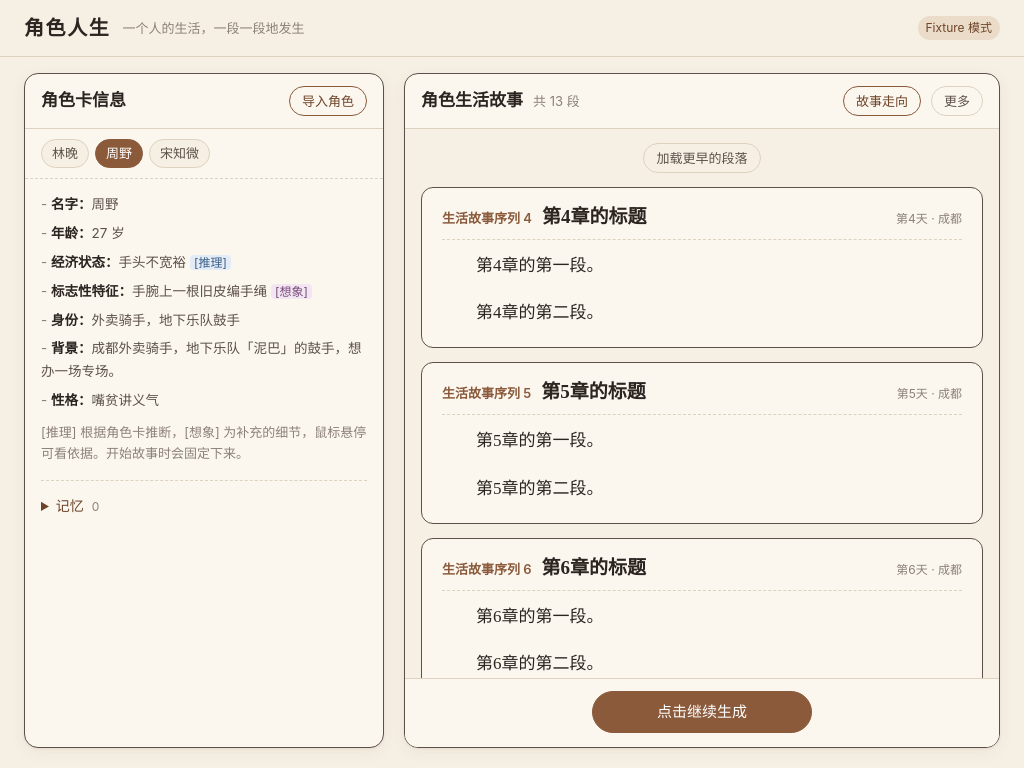
Test: Navigating long stories › loads earlier segments on demand
This screenshot has width=1024, height=768.
Expected: the heading "第3章的标题" is not shown
Click the button "加载更早的段落" at [702, 158], box [644,143,760,173]
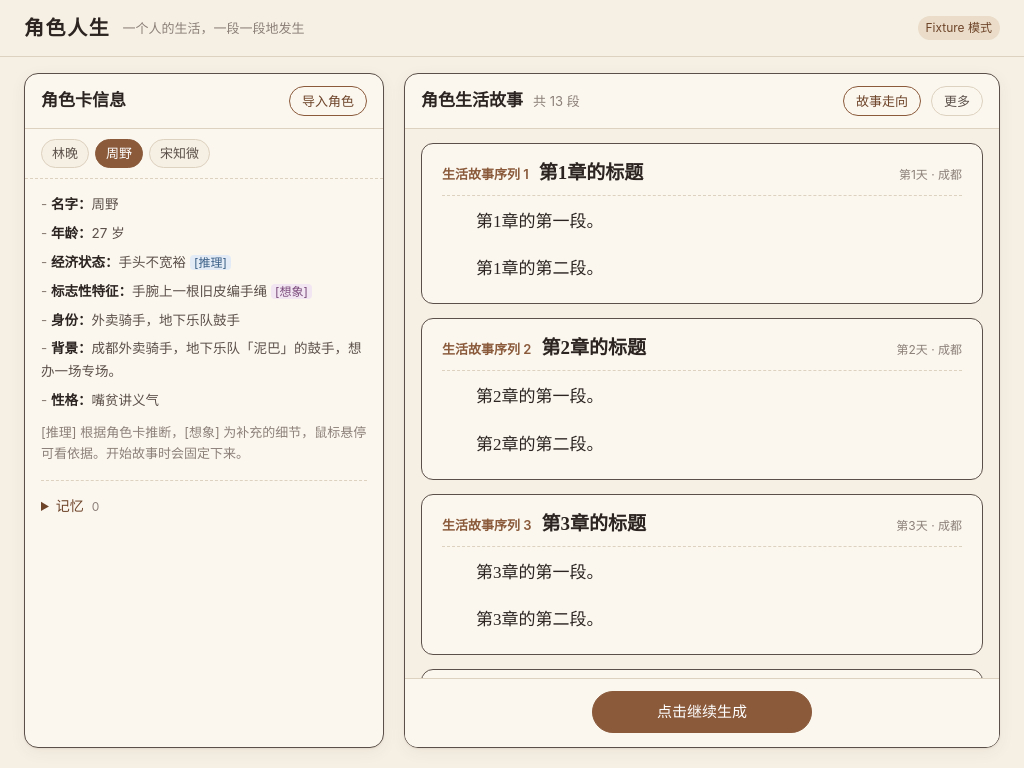
Expected: the heading "第1章的标题" is shown, [539,160,643,187]
